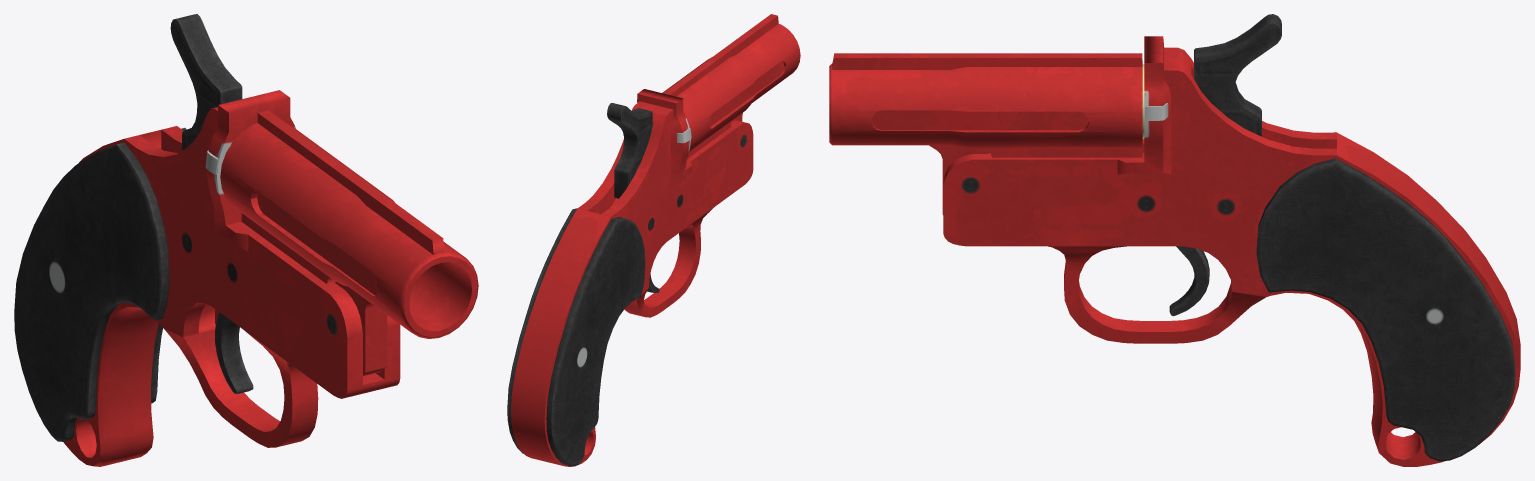
File: Flaregun.fbx
3 views of the same model, side by side, from view 1: azimuth 30°, elevation 25°; view 2: azimuth 150°, elevation 25°; view 3: azimuth 270°, elevation 25° (orthographic). The views are drawn at different scales.
Parts seen in each view (by area): view 1: Flaregun; view 2: Flaregun; view 3: Flaregun.
Boxes of the visible parts, x1=… form: Flaregun: x1=14, y1=14, x2=478, y2=466; Flaregun: x1=507, y1=14, x2=800, y2=466; Flaregun: x1=829, y1=14, x2=1520, y2=466.
Bounding box in the file's own units: 7.1 × 37.64 × 53.84.
